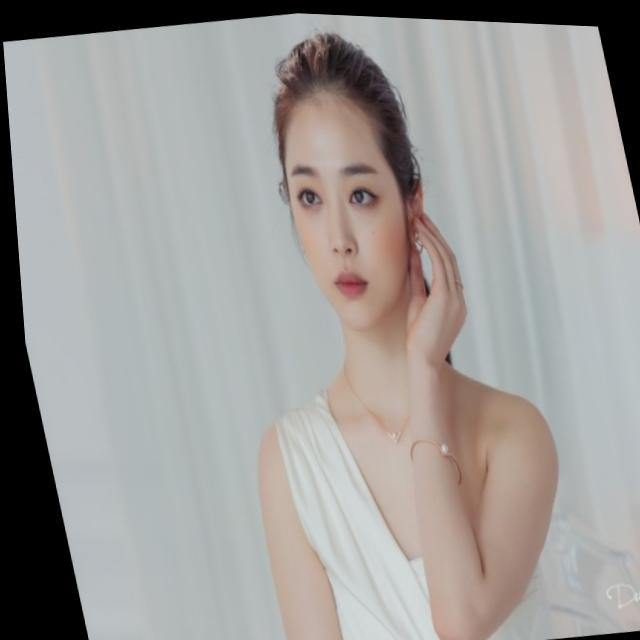face: (250, 11, 454, 339)
